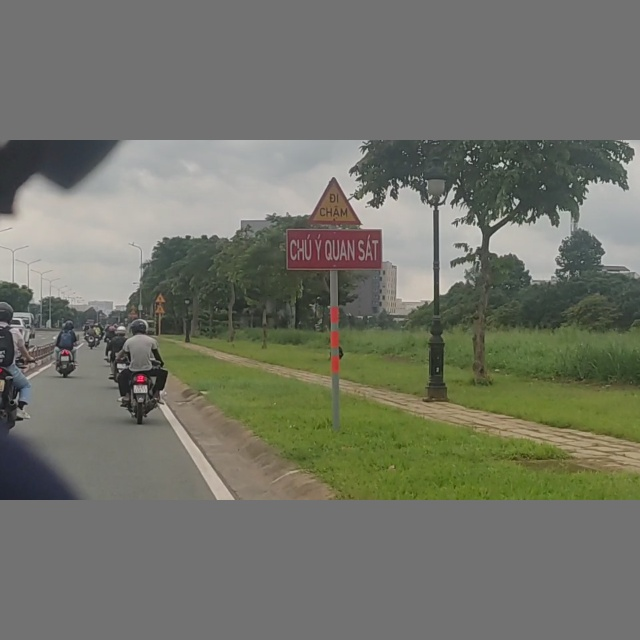W.207: (154, 291, 167, 303)
W.224: (155, 304, 166, 313)
W.245a: (309, 177, 363, 224)
